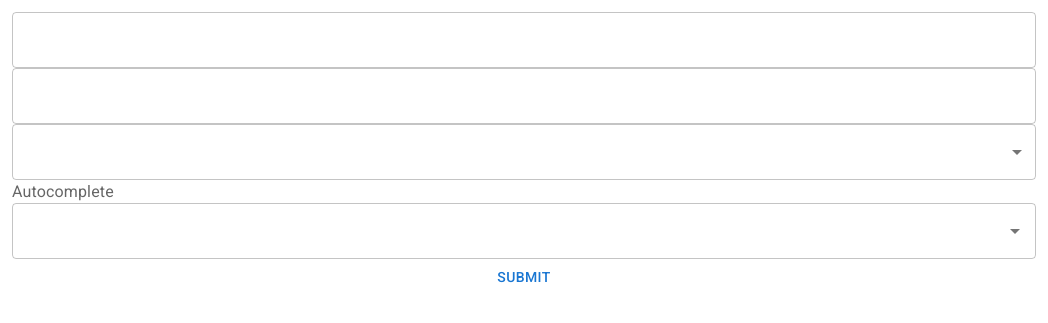
Scenario: BasicFormik Component › validates password field correctly
Type "example@mail.com" into the field named "email" at (524,40), box [12,12,1036,68]
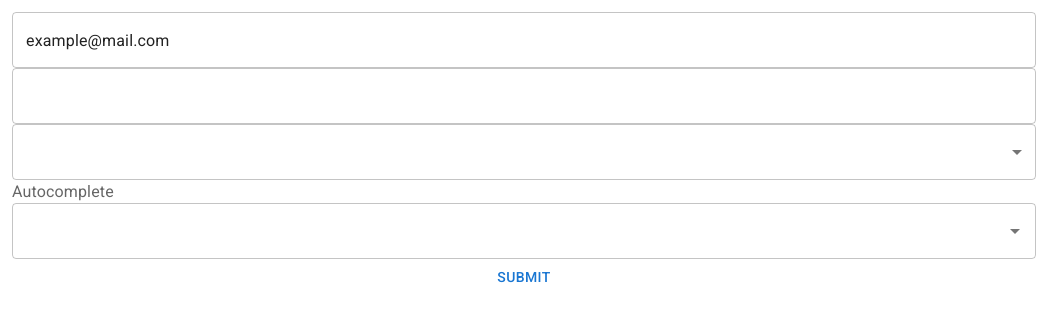
Click the button "Submit" at (524,277), box [12,259,1036,296]
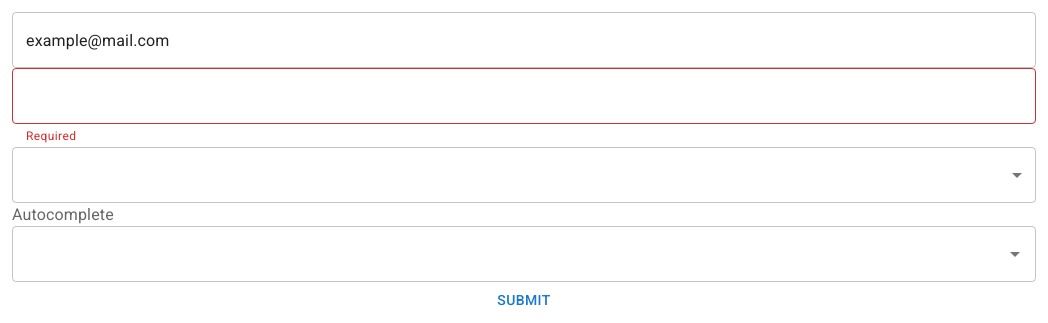
Expected: the text "Required" is shown, [26,129,76,143]
